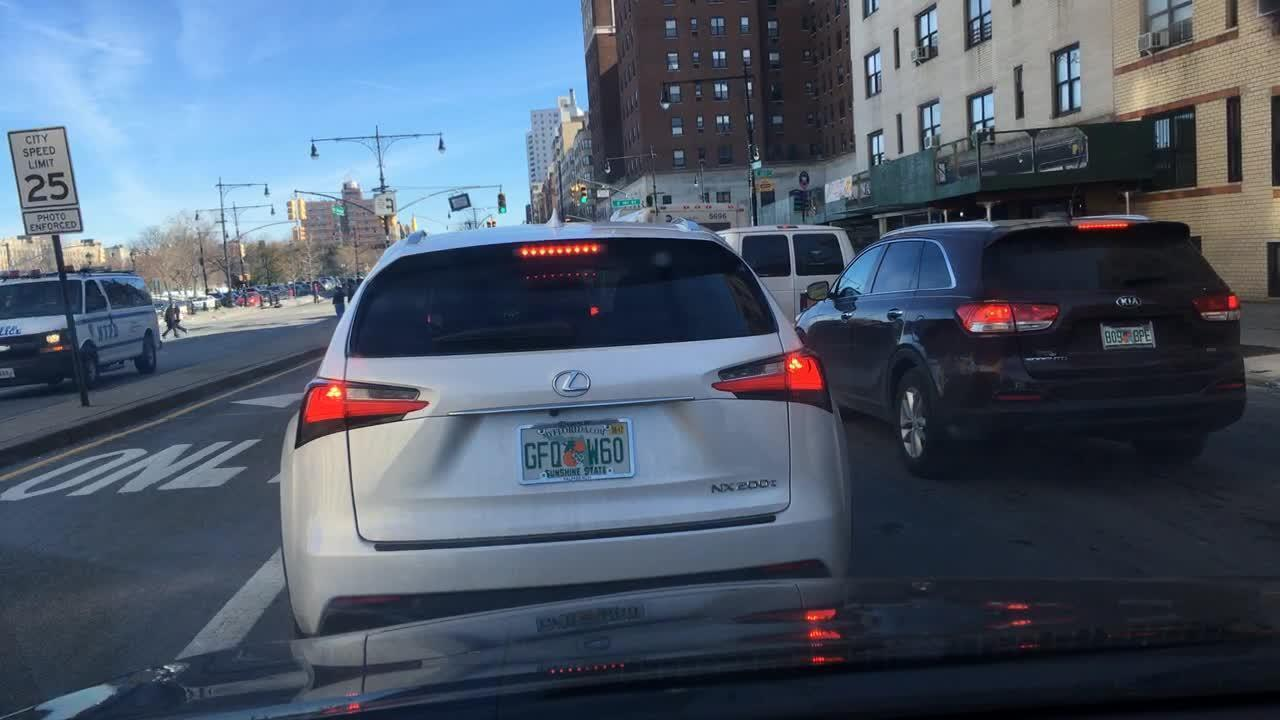kia: (1104, 288, 1150, 317)
lexus: (544, 364, 594, 406)
